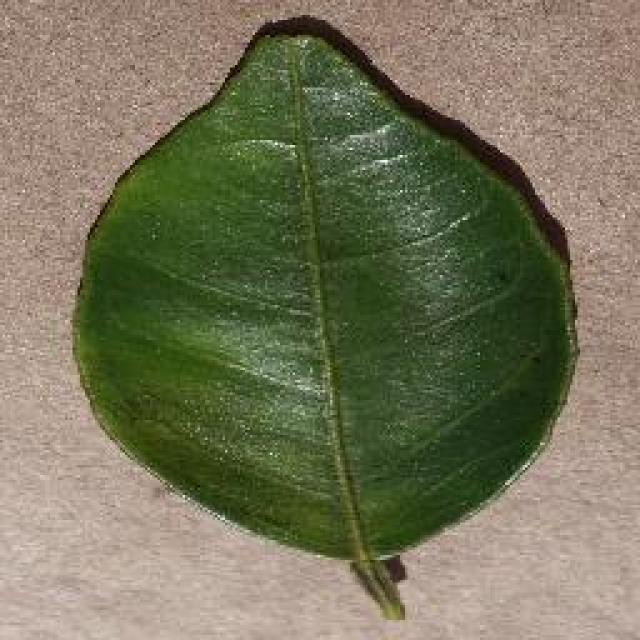Orange_Haunglongbing_Citrus_greening: (117, 93, 524, 535)
